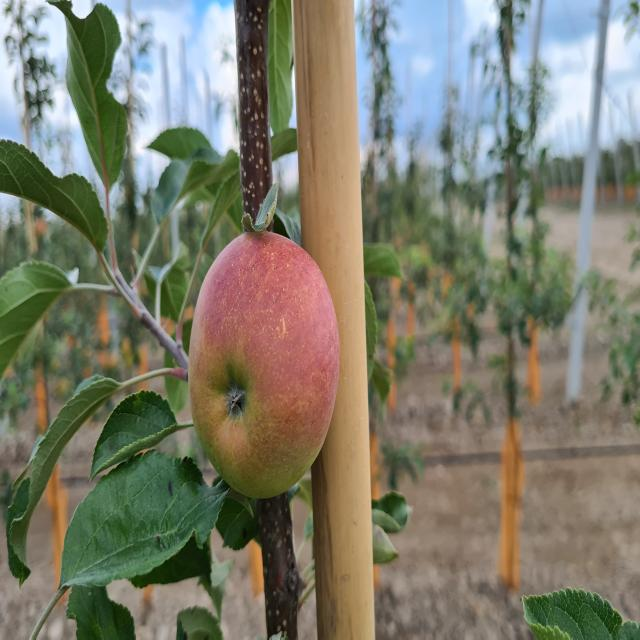Apple: (189, 231, 340, 500)
